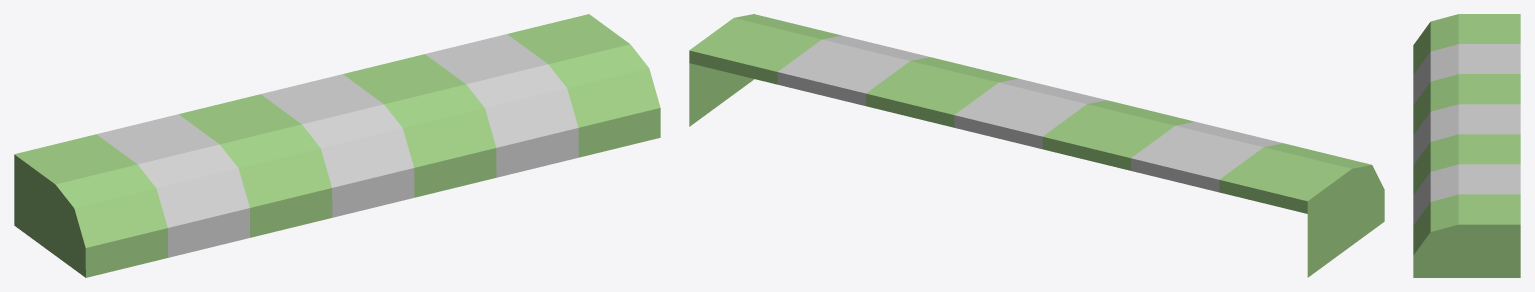
File: awning.fbx
3 renders of one model, left to right at view 1: azimuth 30°, elevation 25°; view 2: azimuth 150°, elevation 25°; view 3: azimuth 270°, elevation 25°, orthographic. The views are drawn at different scales.
Parts seen in each view (by area): view 1: Cube; view 2: Cube; view 3: Cube.
Part boxes in pixels (x1=…): Cube: x1=14, y1=14, x2=660, y2=277; Cube: x1=689, y1=14, x2=1384, y2=277; Cube: x1=1413, y1=14, x2=1520, y2=277.
Bounding box in the file's own units: 140 × 16.58 × 30.23.
